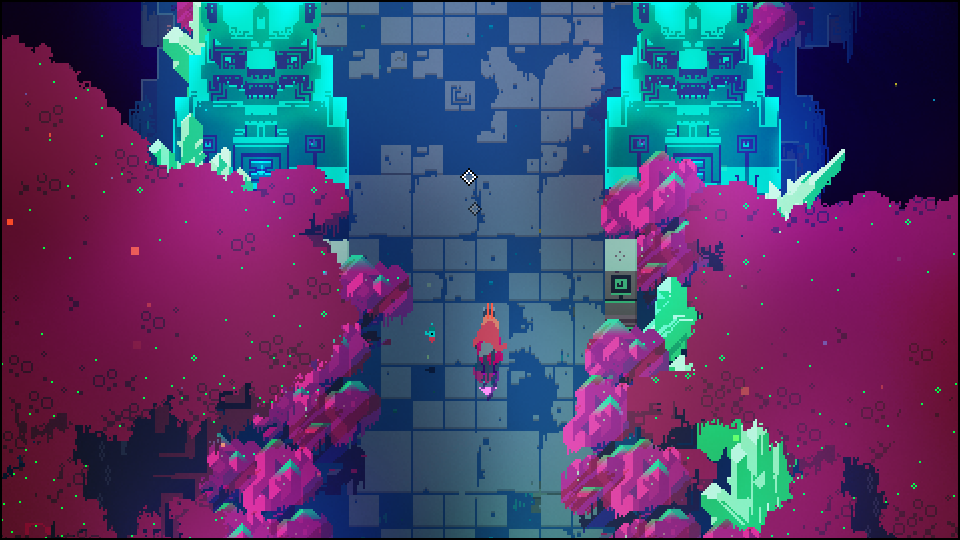player: (473, 306, 503, 365)
